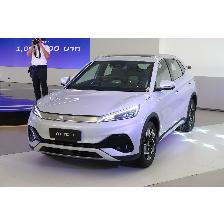EV: (27, 54, 200, 169)
